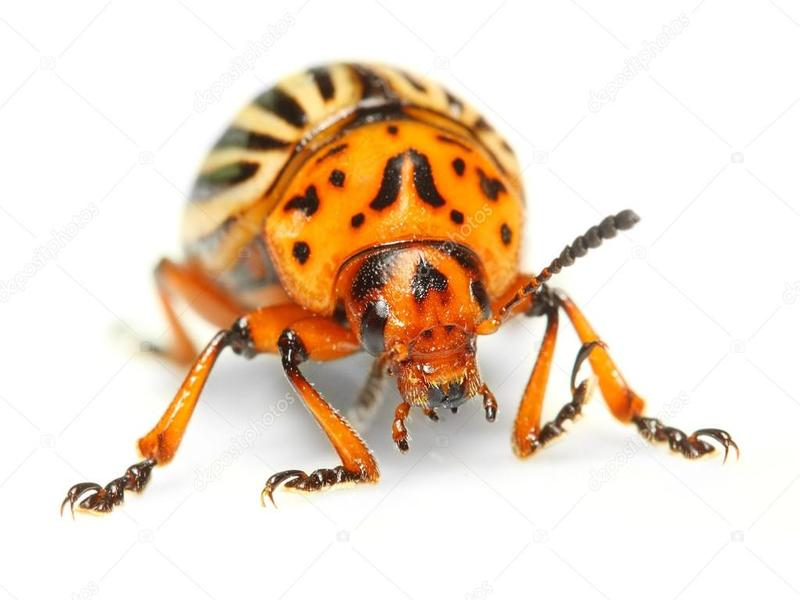hrosc: (153, 51, 615, 478)
